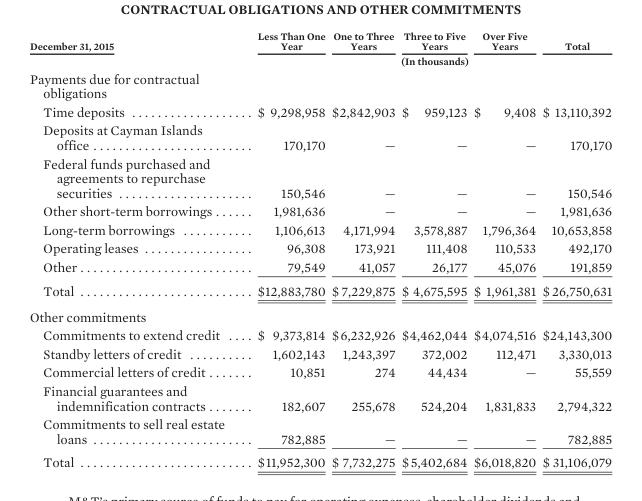table: (28, 28, 611, 469)
table column: (28, 28, 240, 469), (240, 28, 327, 469), (538, 28, 611, 469), (397, 28, 469, 469), (327, 28, 397, 469), (469, 28, 538, 469)
table column header: (28, 28, 611, 68)
table projected row header: (28, 68, 611, 102), (28, 303, 611, 325)
table row: (28, 153, 611, 201), (28, 414, 611, 450), (28, 68, 611, 102), (28, 120, 611, 153), (28, 381, 611, 414), (28, 28, 611, 53), (28, 278, 611, 303), (28, 303, 611, 325), (28, 257, 611, 278), (28, 201, 611, 220), (28, 238, 611, 257), (28, 325, 611, 344), (28, 362, 611, 381), (28, 450, 611, 469), (28, 102, 611, 120), (28, 220, 611, 238), (28, 344, 611, 362), (28, 53, 611, 68)
table spanning cell: (28, 28, 240, 68), (240, 53, 611, 68)
